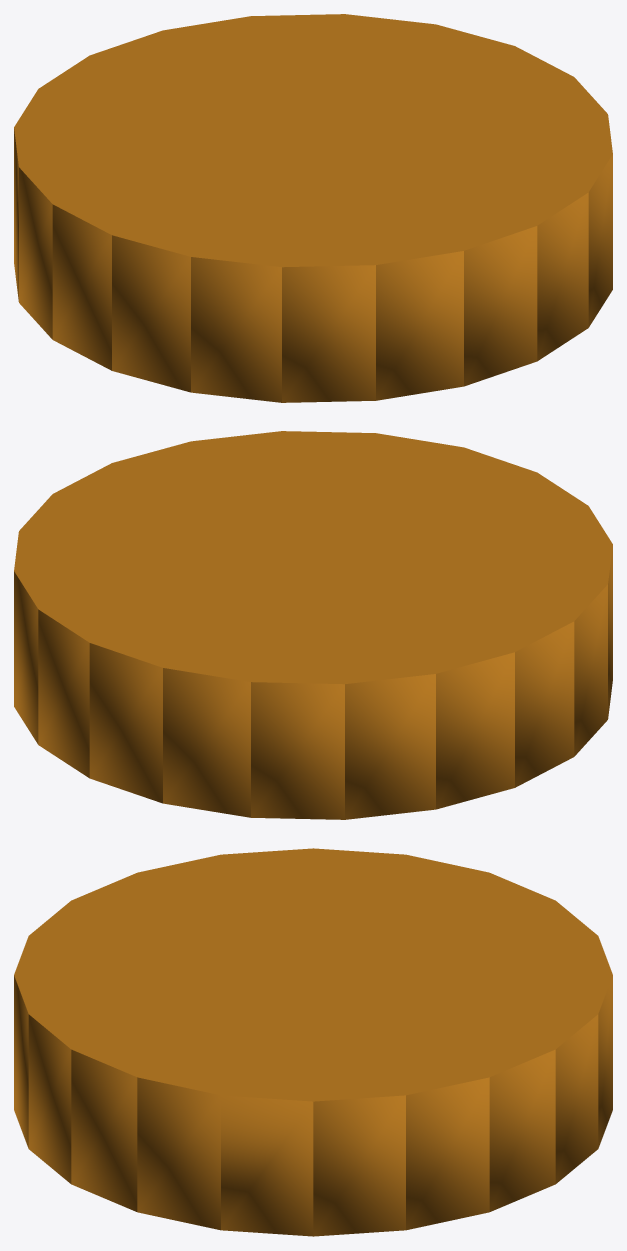
The model's file is Blocker_C_Ring.fbx.
The picture shows the model from 3 angles, top to bottom: view 1: azimuth 30°, elevation 25°; view 2: azimuth 150°, elevation 25°; view 3: azimuth 270°, elevation 25°; orthographic projection.
Visible parts, largest first — view 1: Blocker_C_Ring; view 2: Blocker_C_Ring; view 3: Blocker_C_Ring.
Part boxes in pixels (x1=…): Blocker_C_Ring: x1=14, y1=14, x2=612, y2=402; Blocker_C_Ring: x1=14, y1=431, x2=612, y2=819; Blocker_C_Ring: x1=14, y1=848, x2=612, y2=1236.
Size of the model in its own units: 1.05 by 0.2615 by 1.05.
